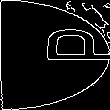P_W: (5, 37, 105, 73)
